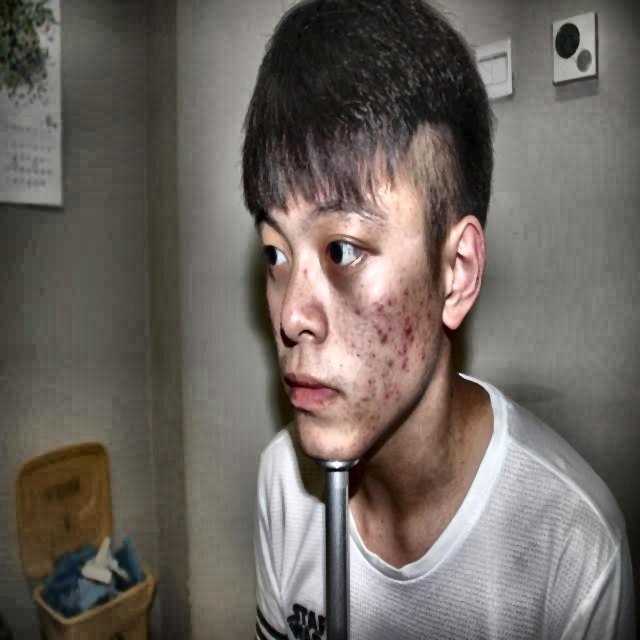papule: (394, 351, 410, 382), (374, 376, 398, 394), (367, 409, 381, 434), (401, 319, 419, 338), (362, 374, 376, 398), (368, 299, 383, 319), (426, 301, 436, 330), (421, 284, 437, 302), (397, 284, 413, 302), (382, 290, 395, 310), (349, 398, 362, 418), (376, 324, 388, 344), (395, 340, 407, 359), (384, 348, 392, 371), (386, 318, 396, 335), (418, 348, 426, 367), (395, 388, 405, 403), (424, 333, 434, 348), (372, 315, 380, 332), (396, 310, 405, 322), (355, 442, 362, 456)
